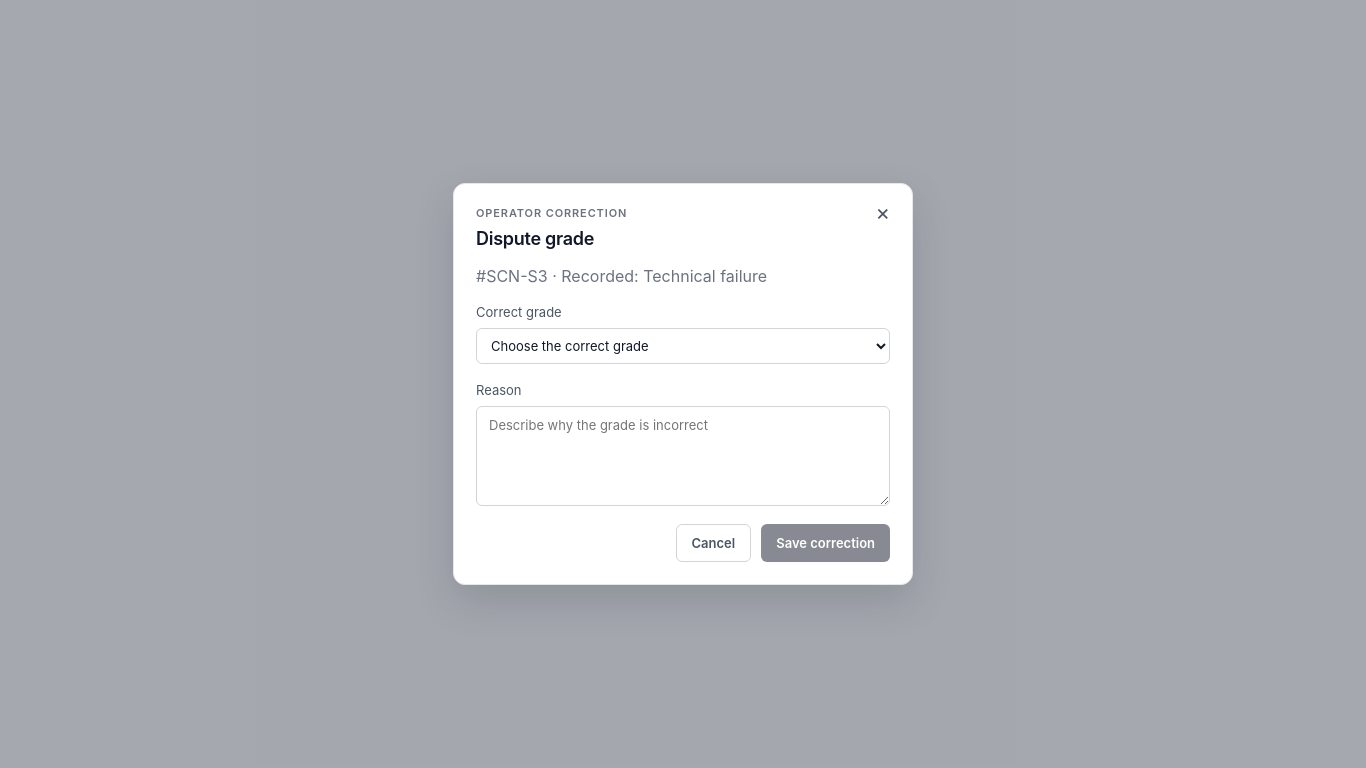
DisputeModal › treats a missing grade as a recorded technical failure
Select "Technical Failure" in the dropdown labelled "Correct grade": coordinates (683, 346) [476,328,890,364]
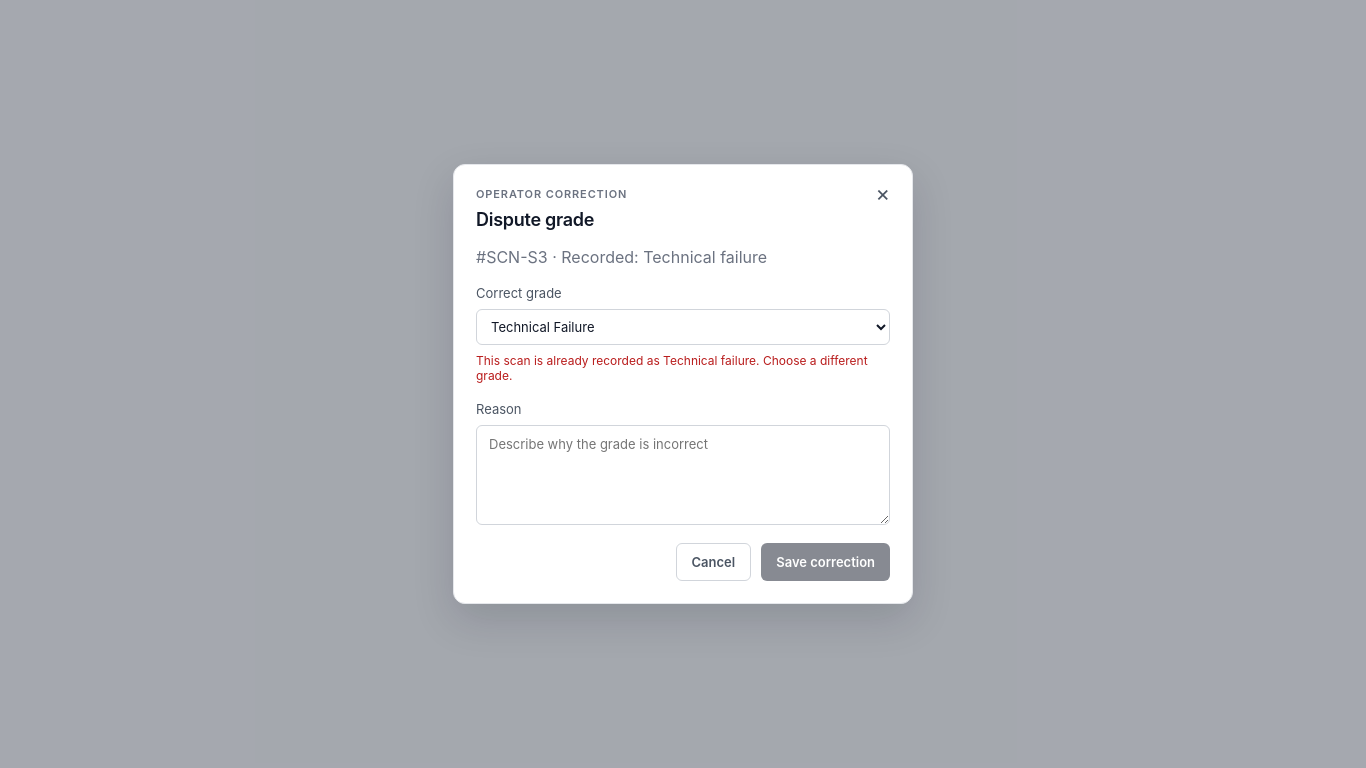
Check: the text with class "form-error" shows "already recorded as Technical failure", box [476,353,868,383]
